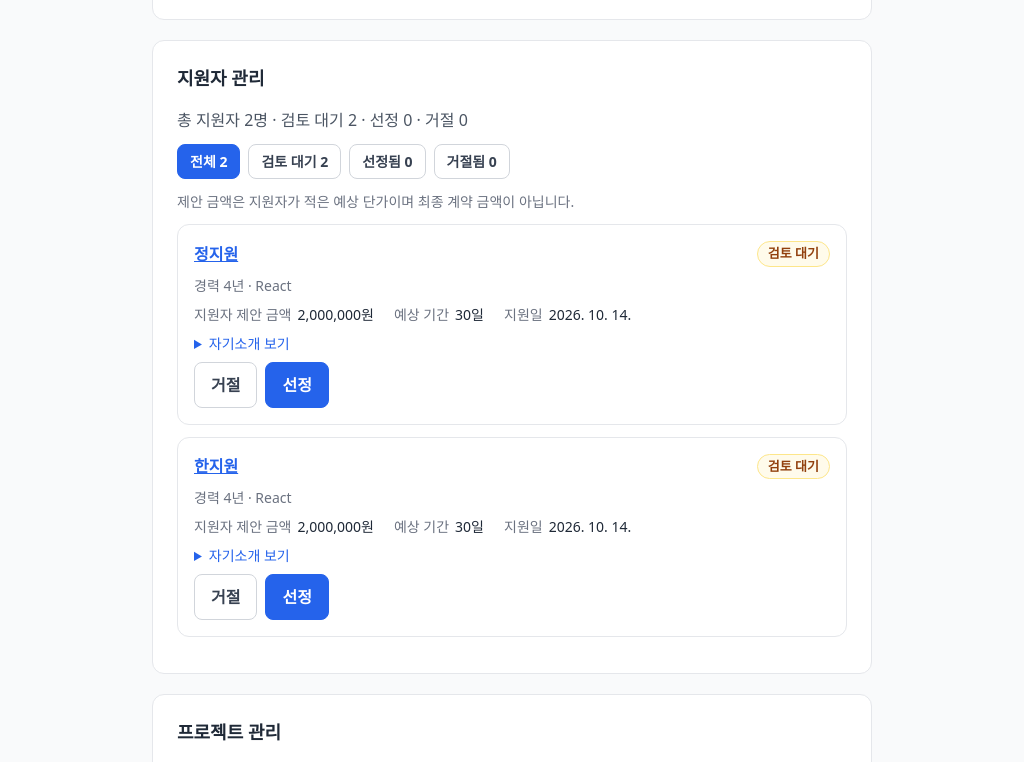
Test: applicant management on the project detail (owner) › shows the server error and reloads when the selection is refused
The image size is (1024, 762).
(page scrolled)
Click the button with aria-label "정지원 선정". click: (297, 384)
box: [266, 362, 329, 408]
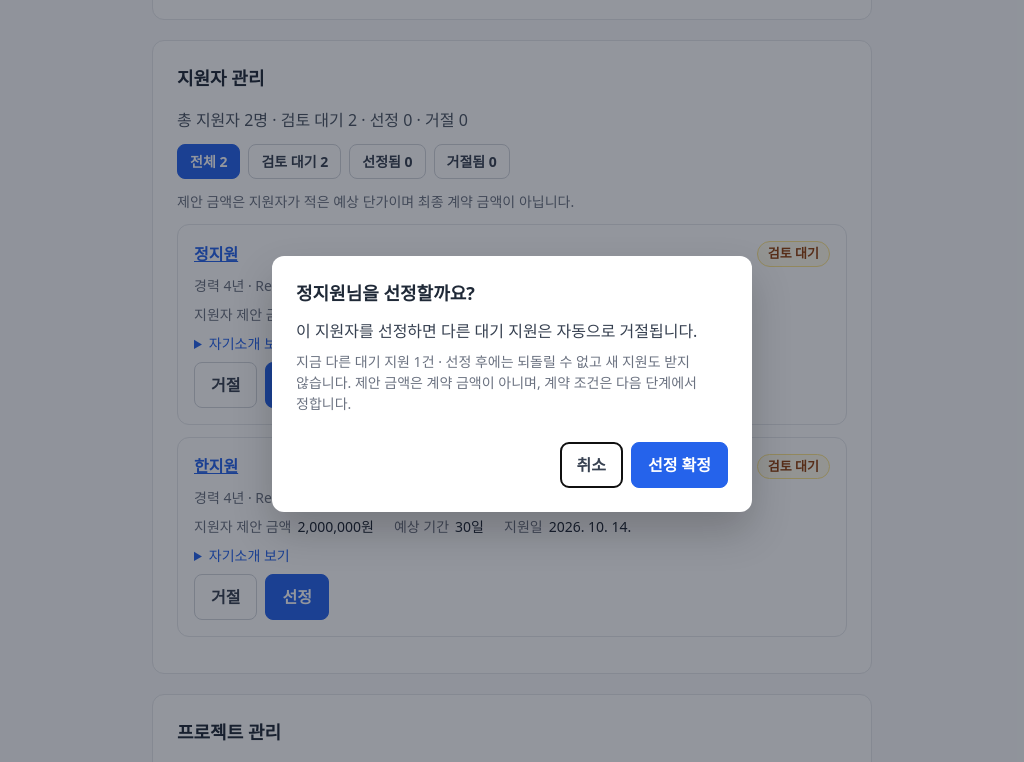
Click the button "선정 확정". click: (680, 465)
box: [631, 442, 728, 488]
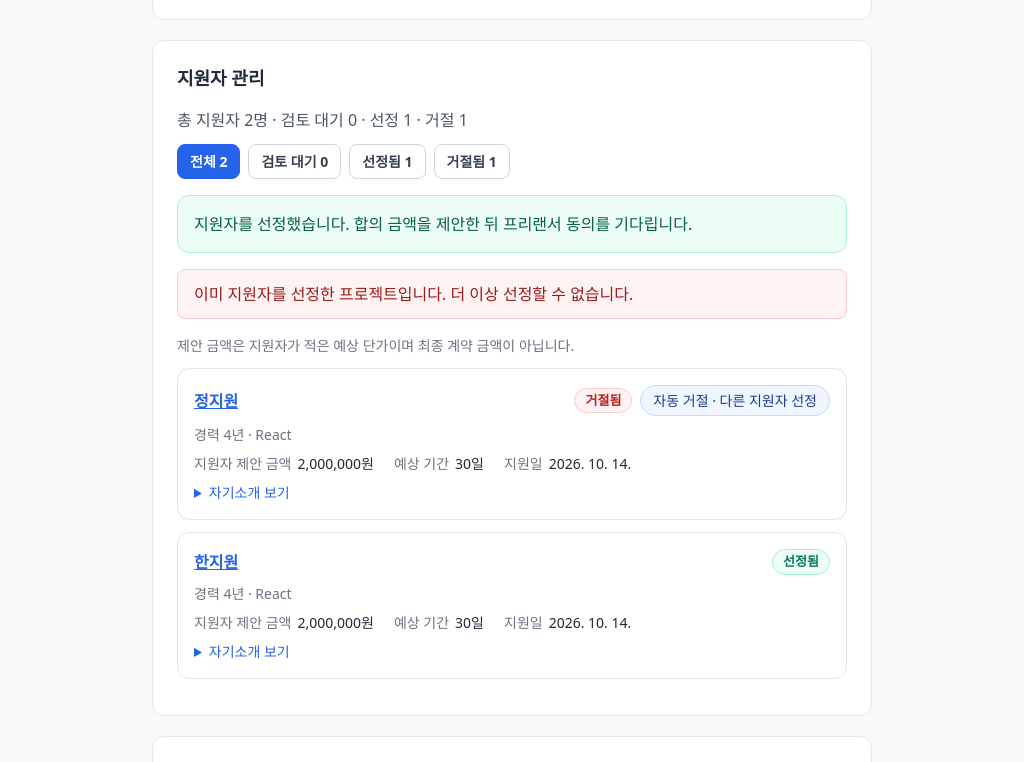
Now the text "이미 지원자를 선정한 프로젝트입니다. 더 이상 선정할 수 없습니다." is shown, box [177, 269, 847, 319]
Now the text "지원자를 선정했습니다. 합의 금액을 제안한 뒤 프리랜서 동의를 기다립니다." is shown, box [177, 195, 847, 253]
Now the text "자동 거절 · 다른 지원자 선정" is shown, box [640, 385, 830, 416]
